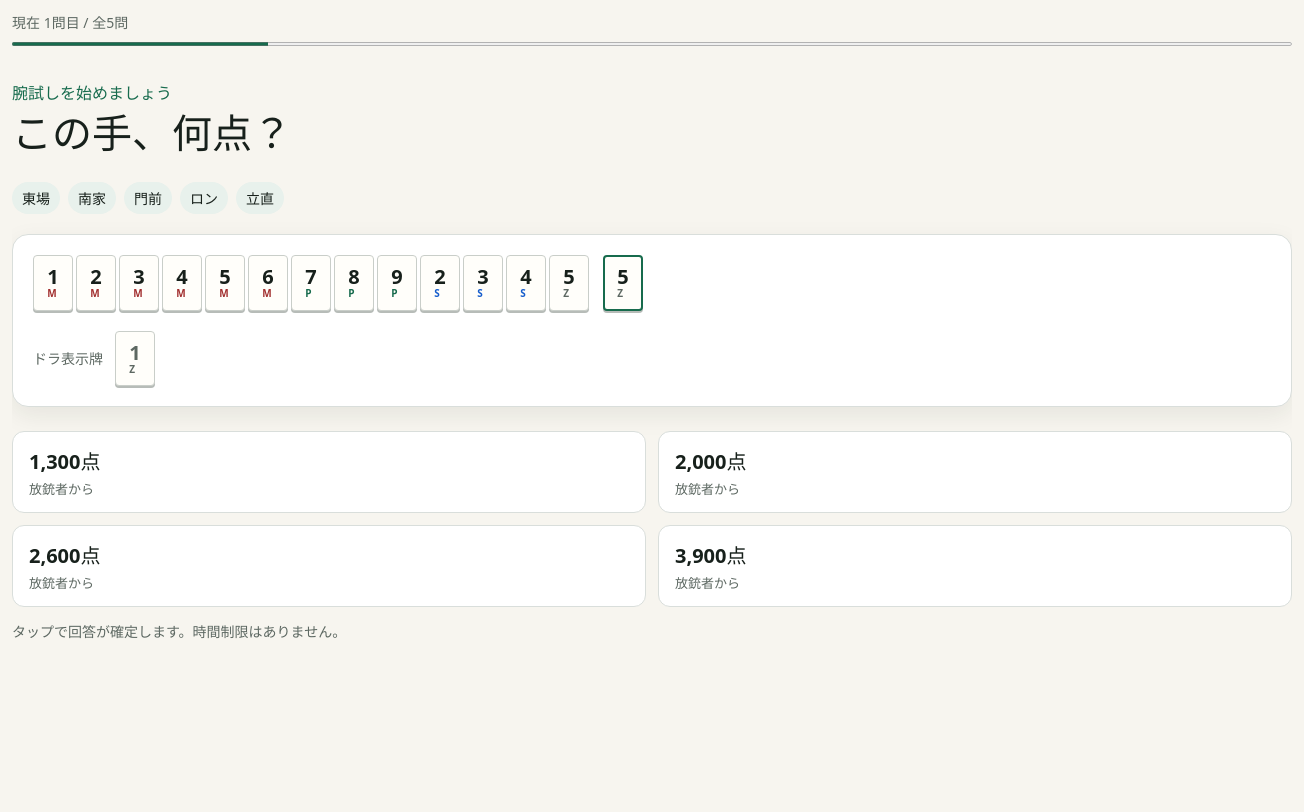
Test: QuizPage › shows concise feedback after the correct answer
The image size is (1304, 812).
Click the button "1,300点 放銃者から". click: [65, 462]
box: [12,431,646,513]
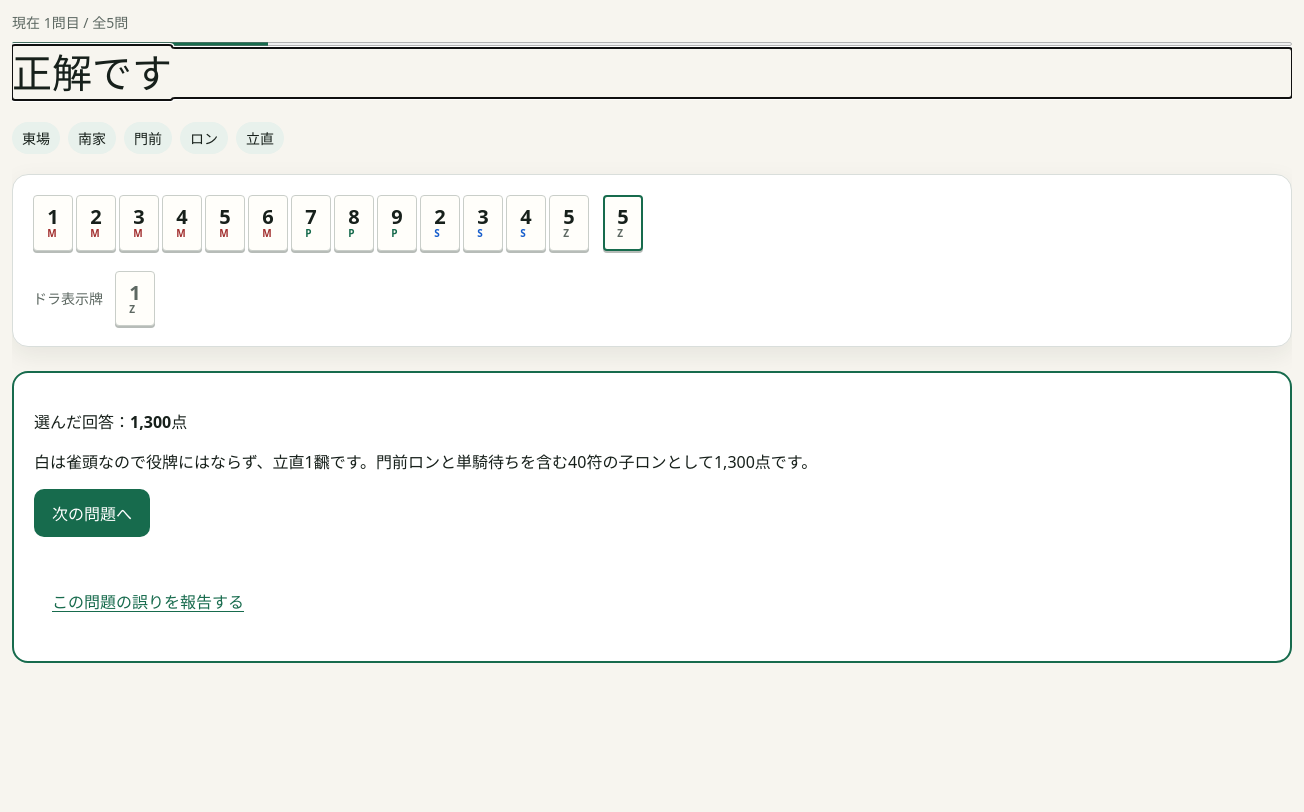
Now the heading "正解です" is shown, box [12,45,172,100]
Now the text "白は雀頭なので役牌にはならず、立直1飜です。門前ロンと単騎待ちを含む40符の子ロンとして1,300点です。" is shown, box [34,451,817,473]
